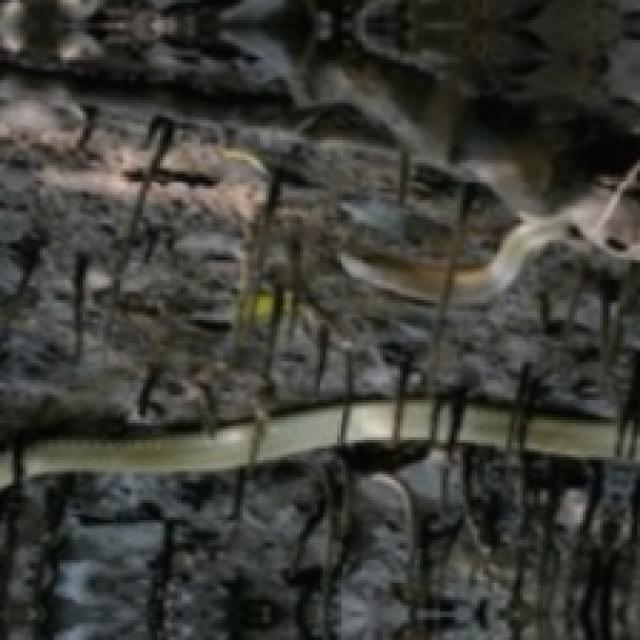king cobra: (25, 426, 255, 474), (452, 214, 568, 304), (340, 252, 443, 303), (256, 404, 342, 462), (532, 421, 614, 458), (460, 405, 510, 446), (346, 400, 393, 442), (402, 398, 430, 439)
